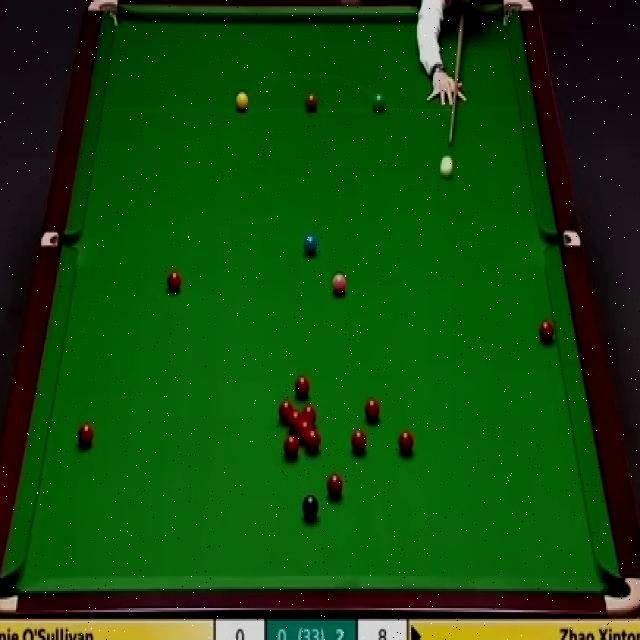black-ball: (302, 492, 320, 522)
blue-ball: (302, 233, 318, 258)
brown-ball: (305, 91, 318, 112)
green-ball: (372, 91, 386, 113)
pink-ball: (328, 270, 348, 300)
red-ball: (538, 318, 557, 349), (326, 471, 346, 500), (76, 422, 94, 448), (165, 271, 184, 295), (350, 430, 367, 456), (364, 397, 381, 423), (398, 431, 414, 457), (275, 398, 290, 424), (300, 405, 318, 426), (304, 431, 320, 454), (294, 376, 310, 399), (296, 419, 312, 440), (287, 410, 303, 431), (284, 436, 298, 458)
white-ball: (438, 152, 456, 178)
yellow-ball: (236, 92, 249, 113)
